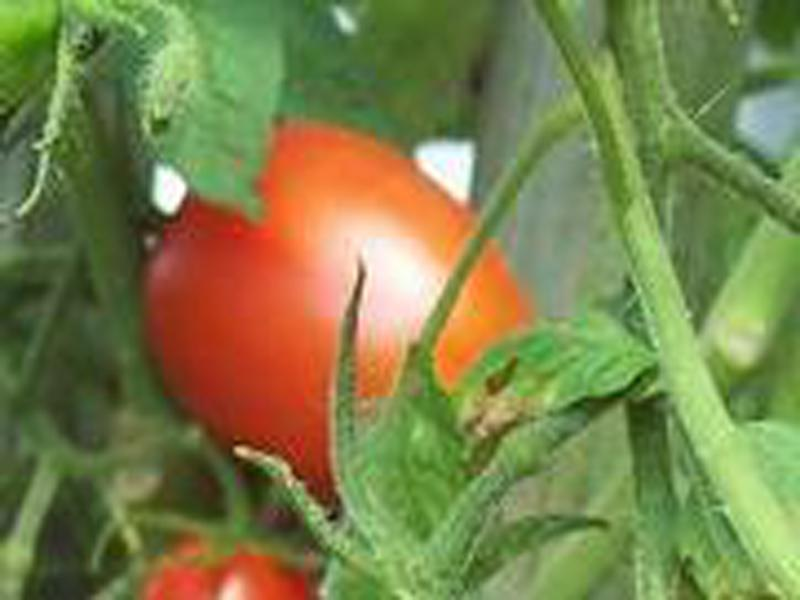Tomato: (145, 119, 525, 486)
